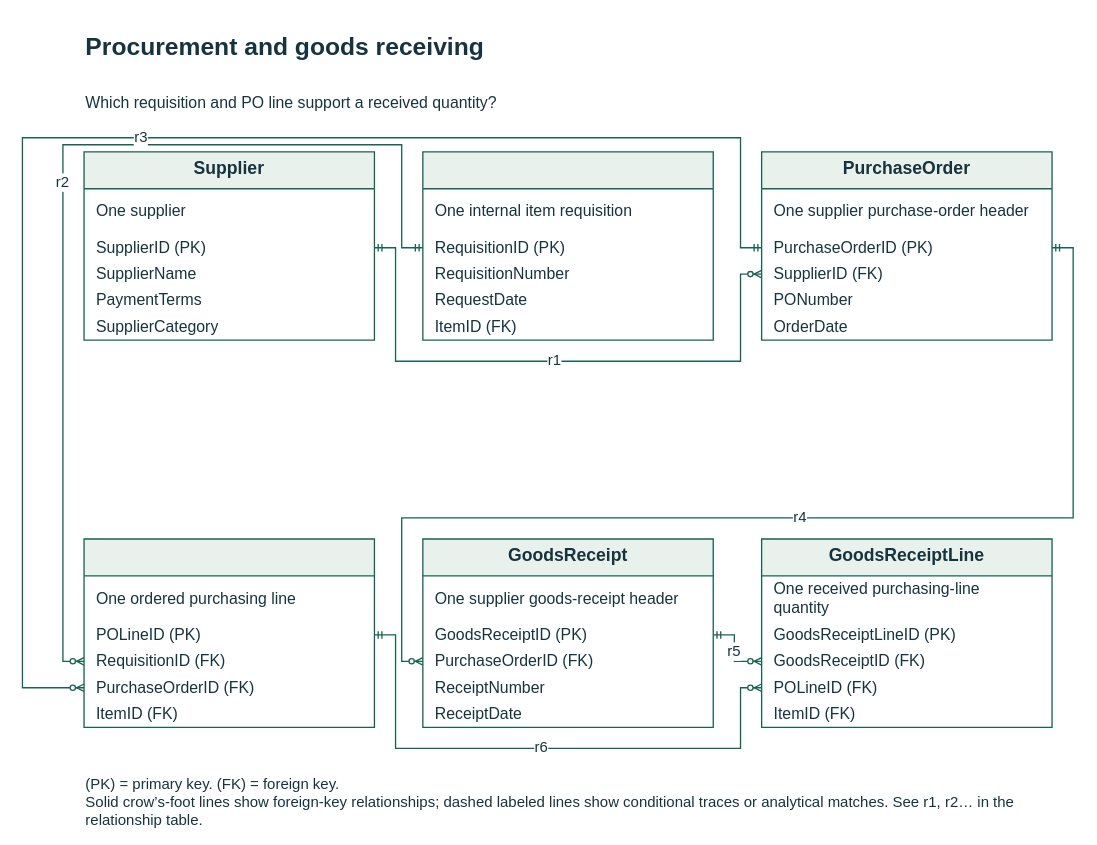
The diagram is 1097 pixels wide and 845 high, and some of its shapes have lost their labels. The shapes that lost their labels are listed below. From the top down, each one's box as (x1, y1, x2, y2) in pixels, then its label:
(422, 151, 714, 340): PurchaseRequisition
(83, 538, 375, 728): PurchaseOrderLine
